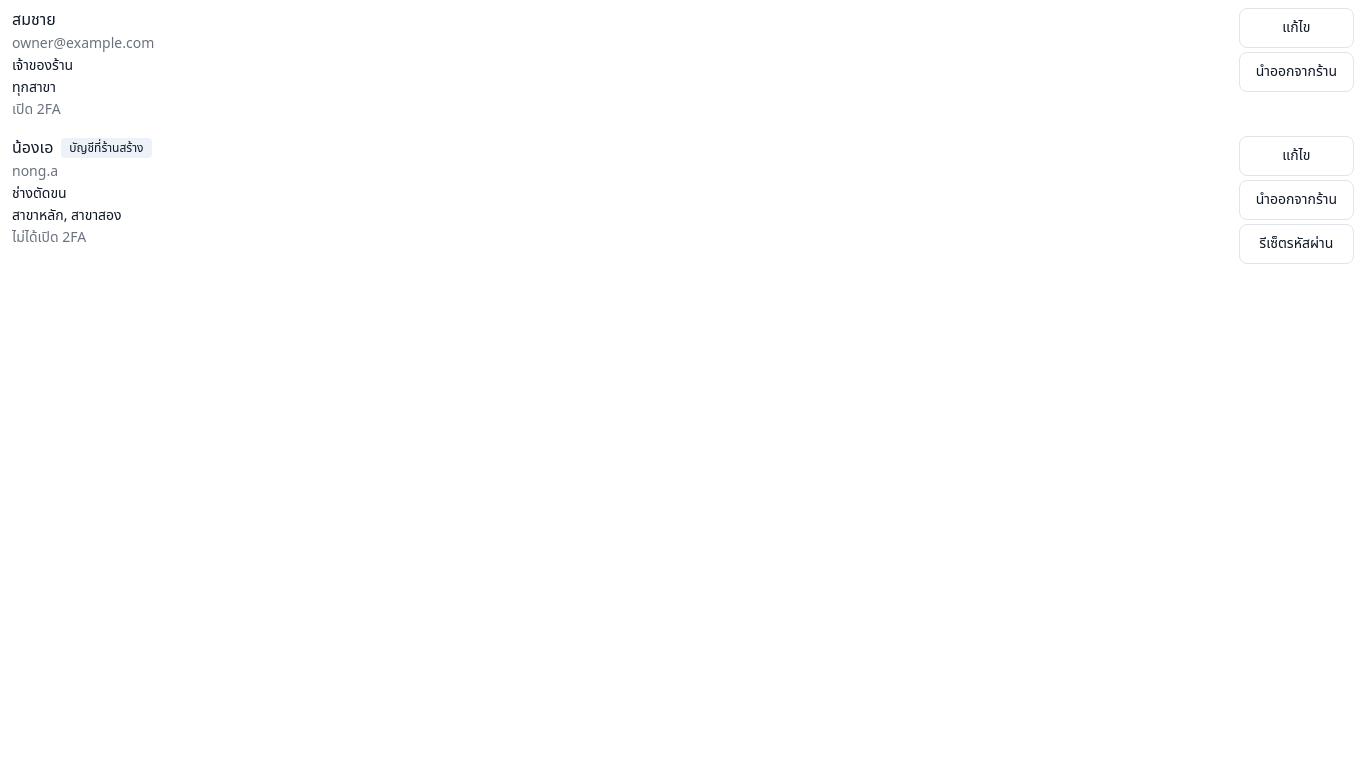
Test: reset password (#contract-staff-password-reset, F09) › password shorter than 10 → field error, no request; show toggle reveals it
Check: the text "น้องเอ" is shown, box [12,136,53,160]
Click the button "รีเซ็ตรหัสผ่าน".
click(1296, 244)  # box [1239,224,1354,264]
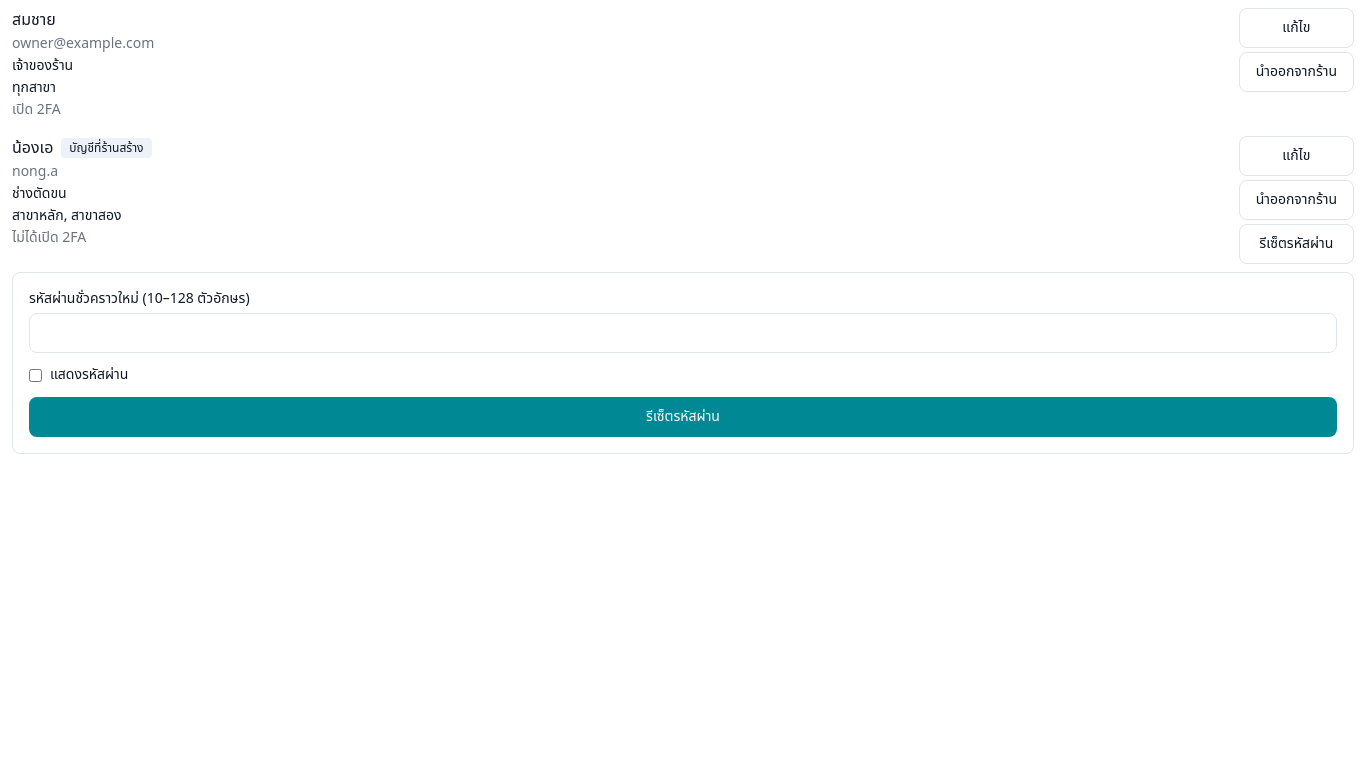
Type "123456789" into the password field labelled "รหัสผ่านชั่วคราวใหม่ (10–128 ตัวอักษร)".
click(683, 333); type("123456789")  # box [29,313,1337,353]
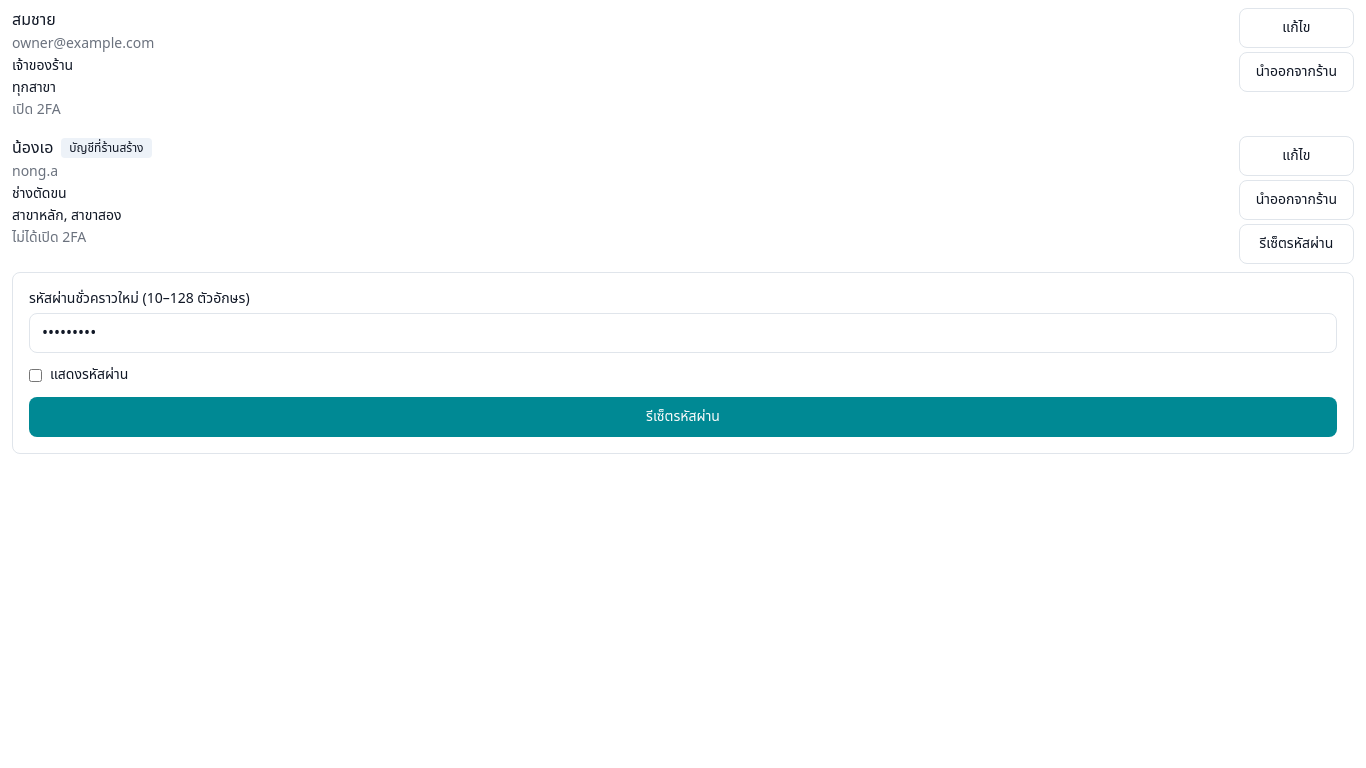
Click the button "รีเซ็ตรหัสผ่าน" below "แสดงรหัสผ่าน".
click(683, 417)  # box [29,397,1337,437]
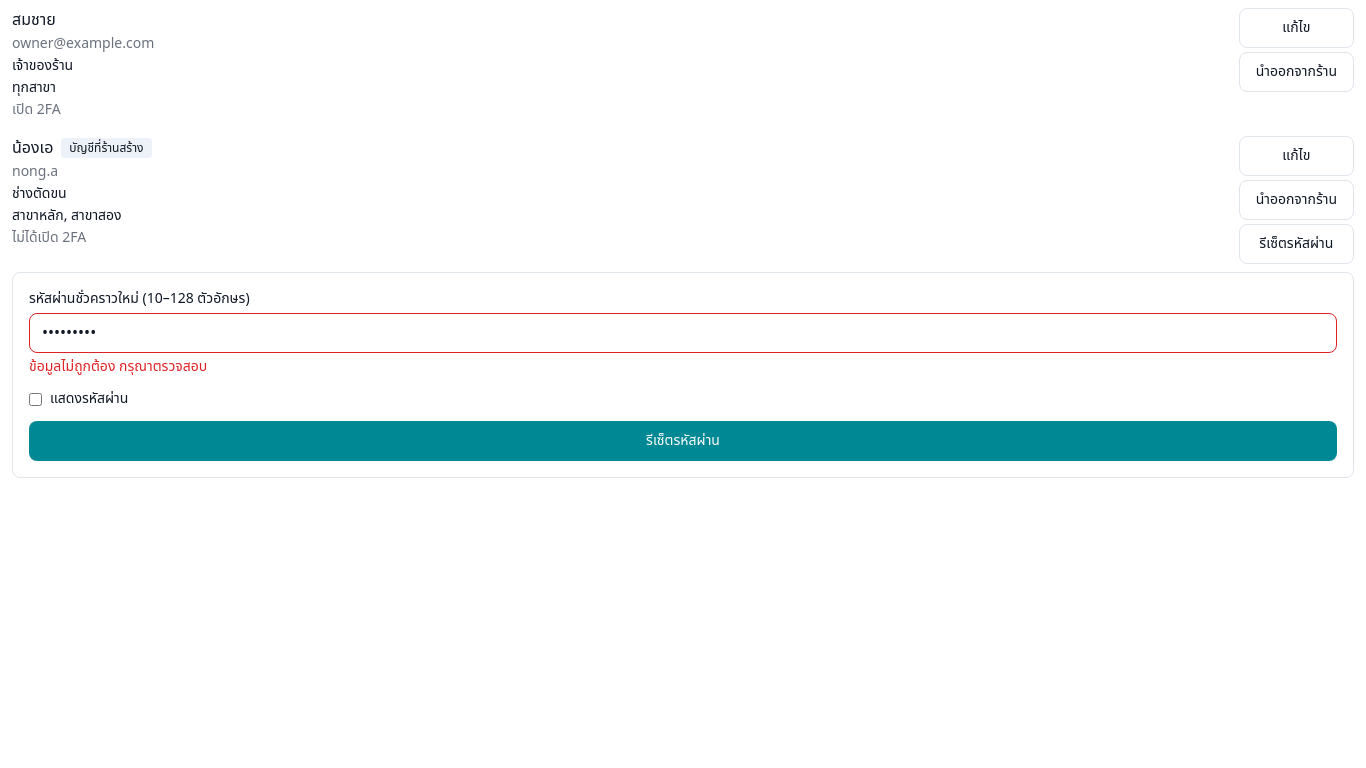
Click the checkbox labelled "แสดงรหัสผ่าน".
click(36, 399)  # box [29,392,42,406]
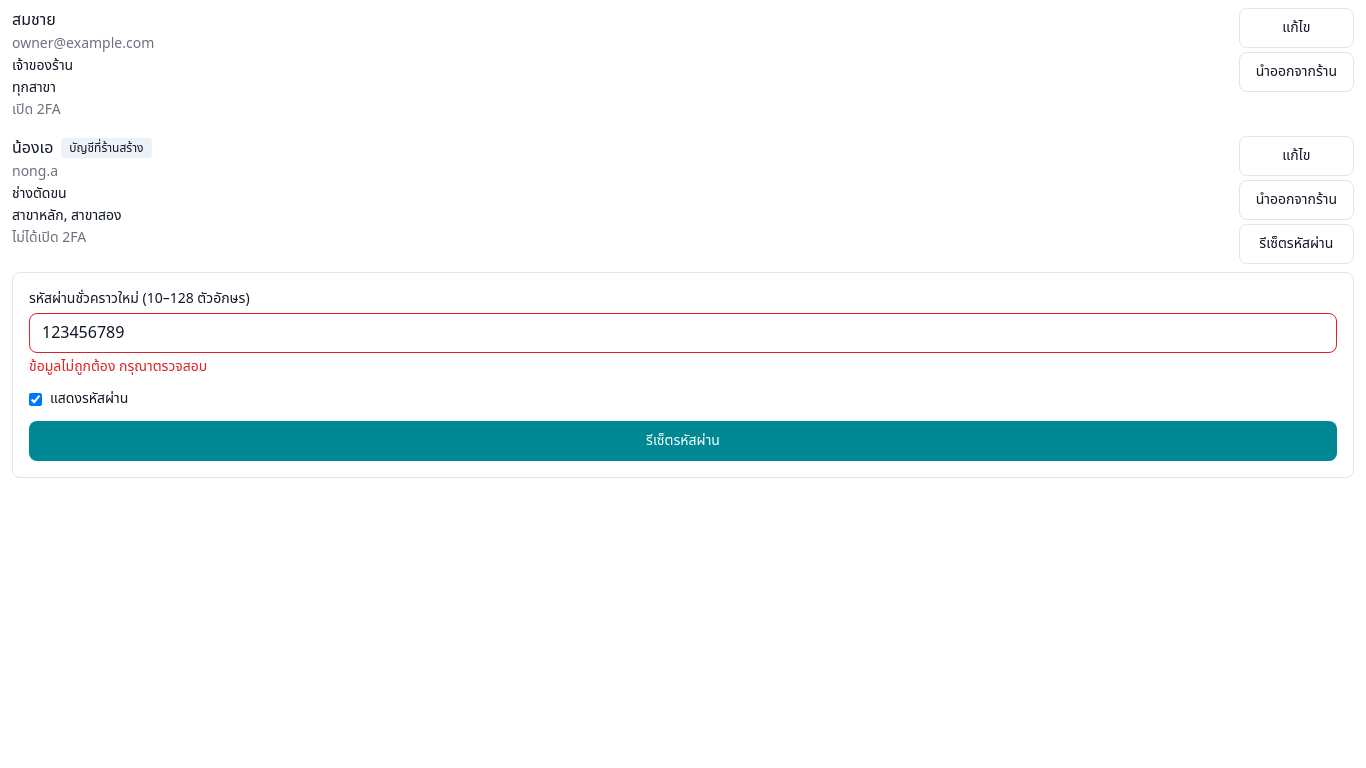
Check: the field labelled "รหัสผ่านชั่วคราวใหม่ (10–128 ตัวอักษร)" shows its text, box [29,313,1337,353]
